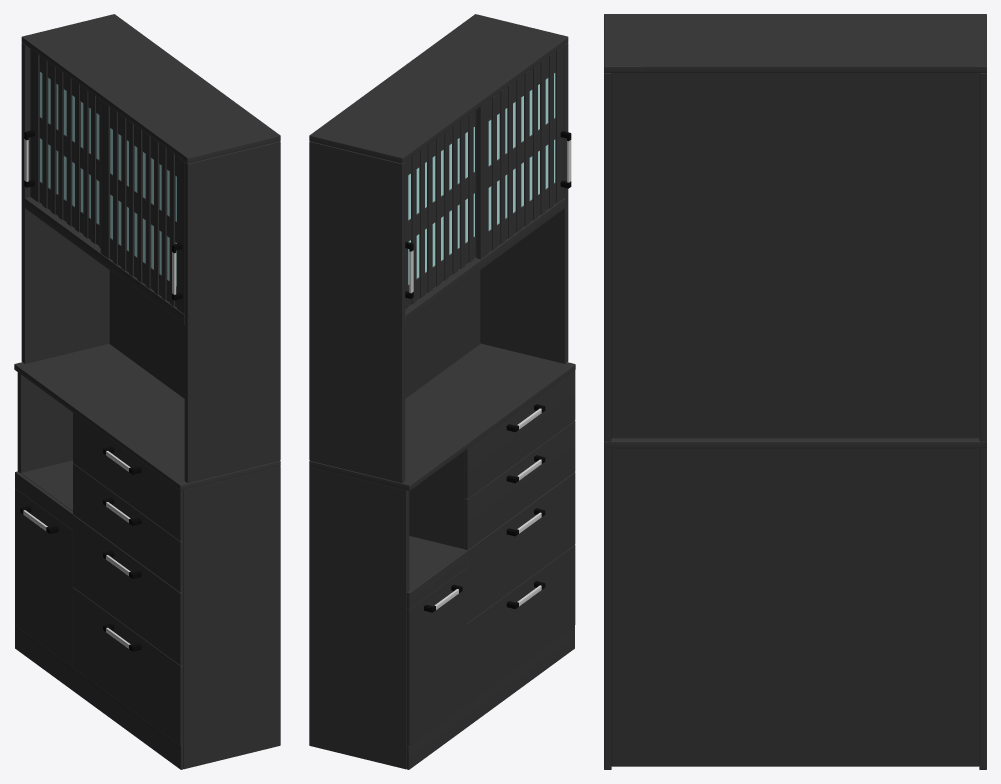
Rendered from SM_Cupboard_04.fbx.
3 renders of one model, left to right at view 1: azimuth 30°, elevation 25°; view 2: azimuth 150°, elevation 25°; view 3: azimuth 270°, elevation 25°, orthographic. The views are drawn at different scales.
Visible parts, largest first — view 1: SM_Cupboard_04_LOD0; view 2: SM_Cupboard_04_LOD0; view 3: SM_Cupboard_04_LOD0.
Part boxes in pixels (box(x1,y1,x2,y2)): SM_Cupboard_04_LOD0: box(14, 14, 280, 769); SM_Cupboard_04_LOD0: box(309, 14, 575, 769); SM_Cupboard_04_LOD0: box(604, 14, 986, 769).
Bounding box in the file's own units: 37.99 × 100 × 203.
